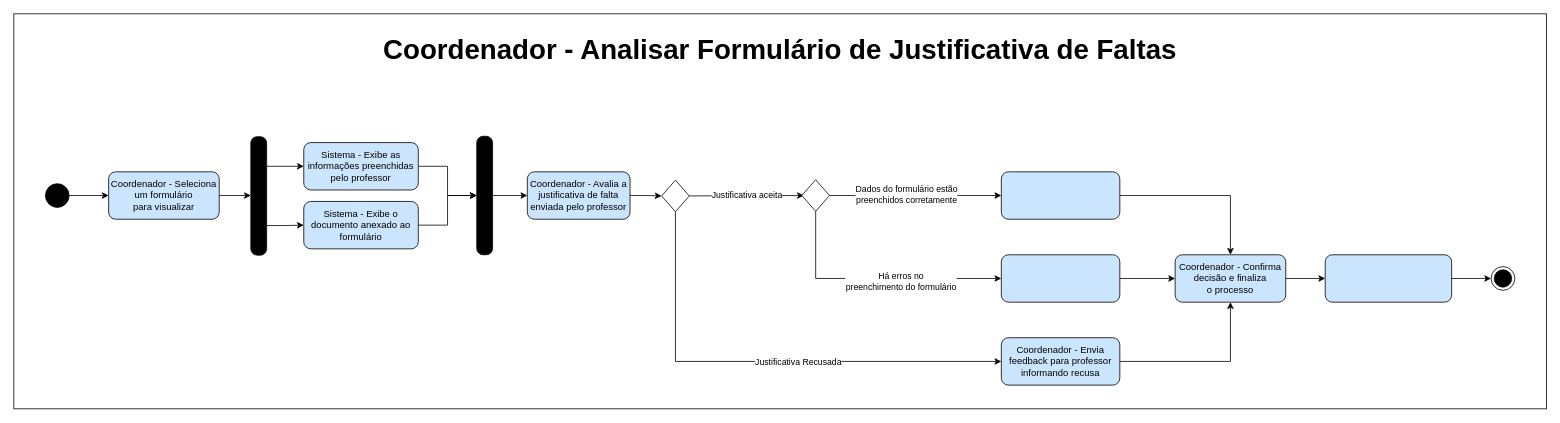
This 1560x423 diagram has some shape labels left out. Each missing label, with the box of its shape:
Coordenador - Encaminha o formulario aprovado para a secretaria: (1001, 171, 1120, 219)
Coordenador - Envia os pontos de correção para o professor: (1001, 254, 1120, 302)
Sistema - Notifica o professor e a secretaria sobre a decisão do coordenador: (1324, 254, 1452, 302)
